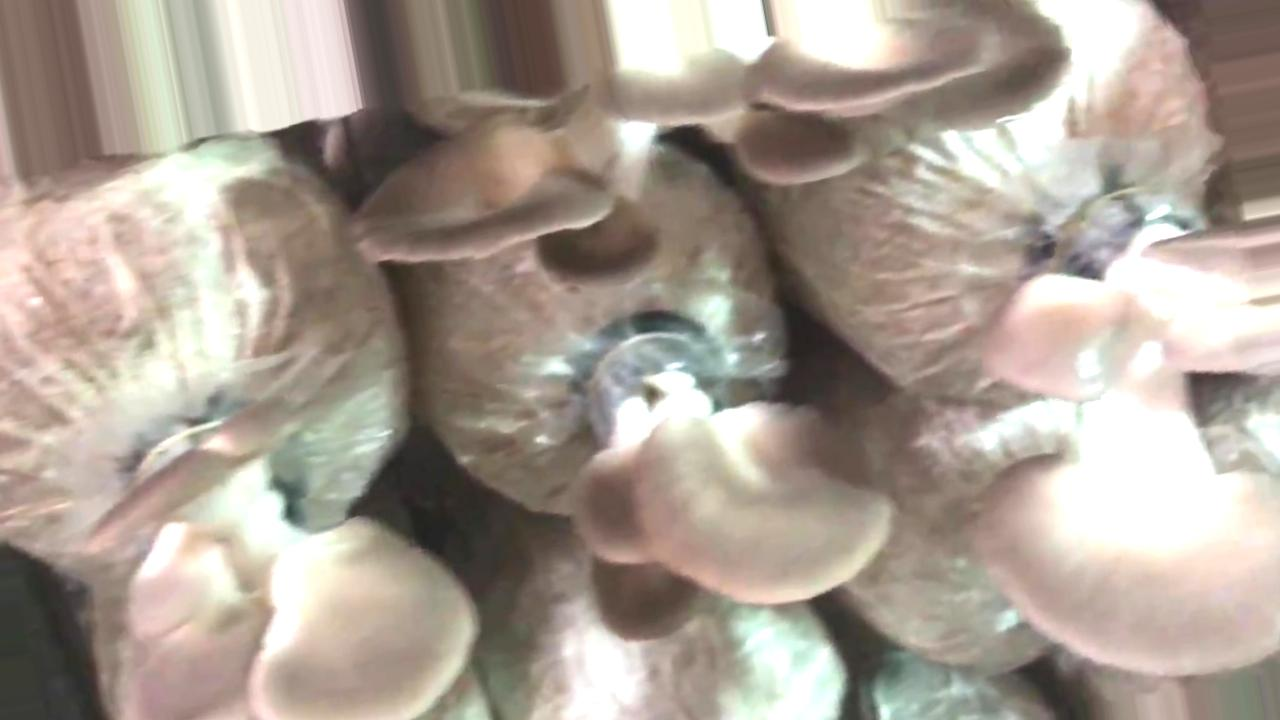nam: (327, 2, 1068, 291), (967, 174, 1280, 678), (78, 395, 482, 720), (556, 307, 895, 645)
